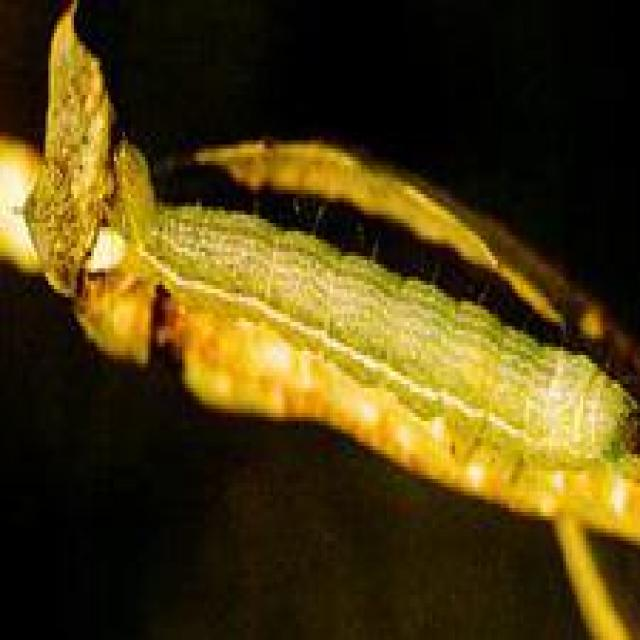armyworm: (96, 127, 640, 498)
